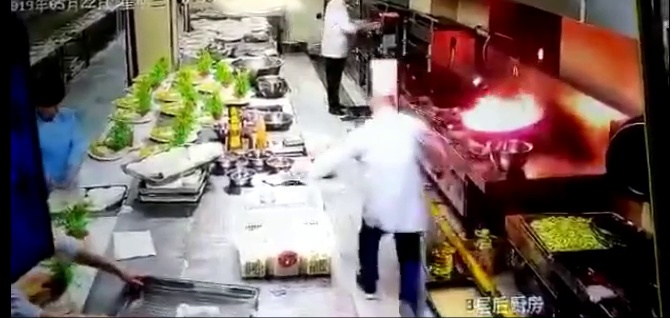fire: (467, 87, 541, 133)
